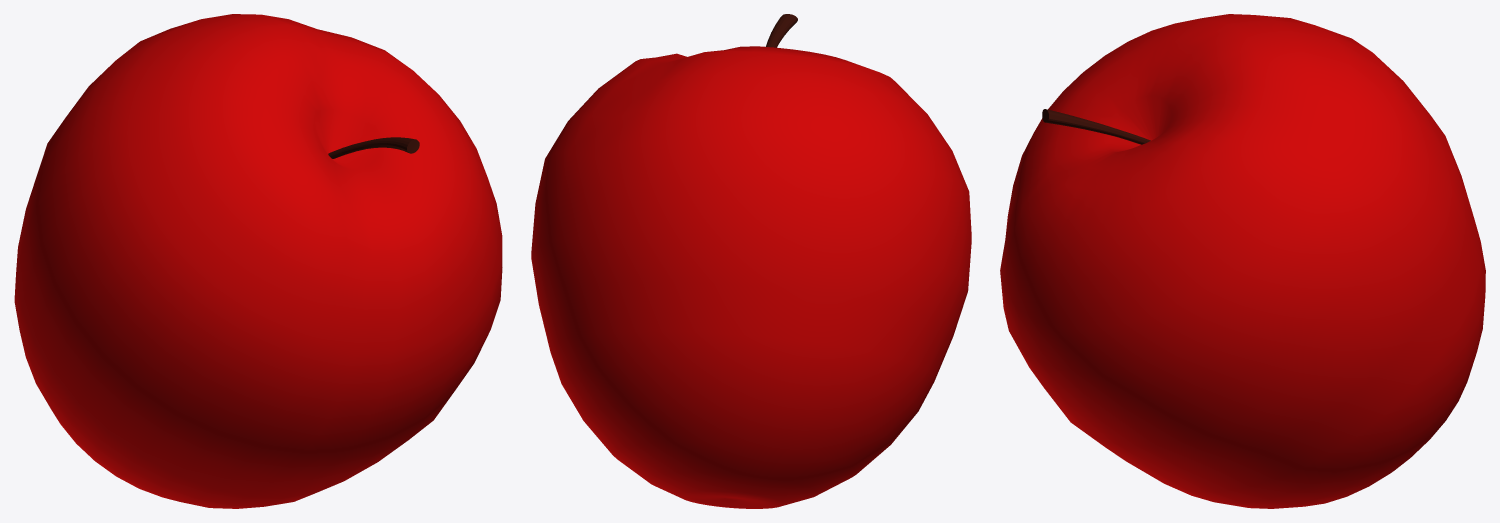
Rendered from Apple.dae.
3 views of the same model, side by side, from view 1: azimuth 30°, elevation 25°; view 2: azimuth 150°, elevation 25°; view 3: azimuth 270°, elevation 25° (orthographic). The views are drawn at different scales.
Parts seen in each view (by area): view 1: polySurface1_ncl1_1; view 2: polySurface1_ncl1_1; view 3: polySurface1_ncl1_1.
Boxes of the visible parts, x1=… form: polySurface1_ncl1_1: x1=14, y1=14, x2=502, y2=508; polySurface1_ncl1_1: x1=531, y1=14, x2=971, y2=508; polySurface1_ncl1_1: x1=1000, y1=14, x2=1485, y2=508.
Bounding box in the file's own units: 12.17 × 12.89 × 12.37.
